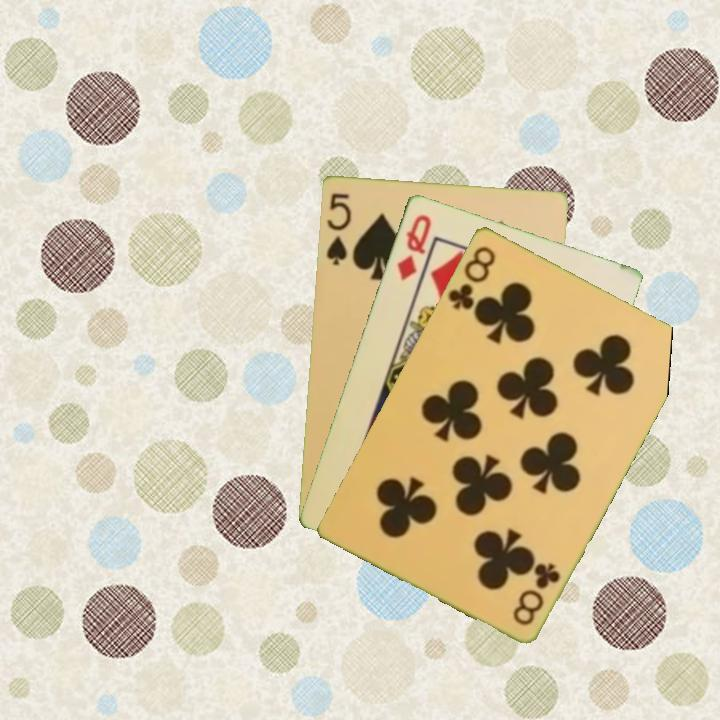5s: (322, 189, 354, 268)
8c: (444, 241, 499, 313), (508, 558, 563, 628)
Qd: (393, 210, 434, 283)
